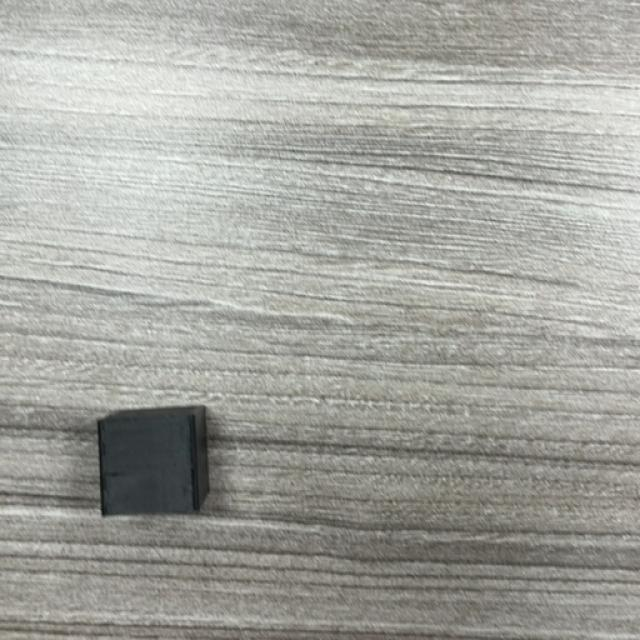Negro: (96, 406, 211, 519)
